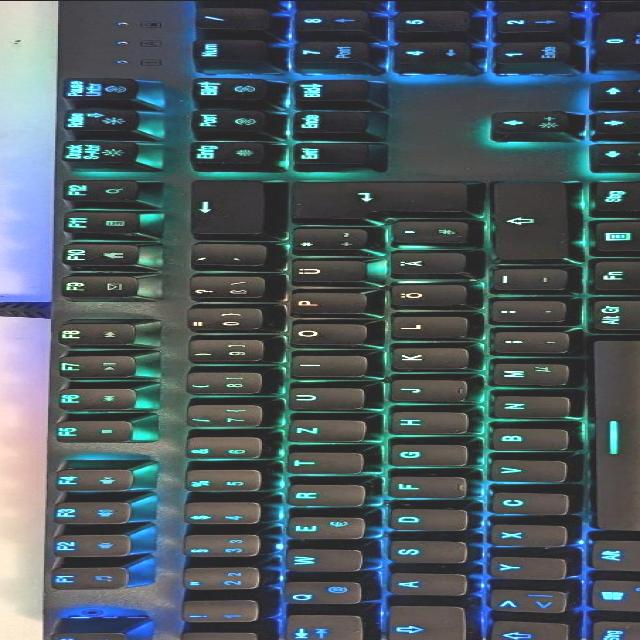0: (179, 307, 264, 333)
1: (176, 599, 260, 623)
2: (177, 567, 261, 591)
3: (177, 534, 262, 558)
4: (179, 502, 261, 526)
5: (178, 469, 262, 493)
6: (180, 436, 262, 460)
7: (180, 404, 264, 427)
8: (179, 371, 264, 396)
9: (180, 338, 268, 363)
a: (383, 573, 465, 597)
accent: (184, 243, 268, 269)
ae: (385, 251, 469, 276)
alt-left: (582, 540, 640, 572)
altgr-right: (582, 298, 640, 333)
b: (482, 427, 568, 452)
c: (483, 491, 568, 515)
caret: (177, 629, 261, 640)
comma: (483, 330, 569, 354)
d: (382, 509, 466, 531)
del: (184, 180, 269, 236)
e: (281, 516, 366, 540)
enter: (284, 182, 475, 223)
f: (382, 477, 466, 499)
g: (383, 443, 468, 467)
h: (383, 411, 469, 435)
hash: (384, 221, 473, 246)
i: (282, 354, 366, 378)
j: (381, 379, 466, 403)
k: (383, 347, 469, 371)
keyboard: (44, 0, 640, 640)
l: (383, 315, 469, 339)
less: (482, 589, 568, 614)
m: (482, 361, 572, 387)
minus: (484, 267, 569, 292)
n: (483, 394, 569, 418)
o: (282, 322, 367, 346)
oe: (383, 284, 469, 308)
p: (282, 292, 367, 316)
plus: (285, 228, 370, 253)
point: (483, 300, 565, 324)
q: (279, 581, 364, 606)
r: (280, 484, 364, 507)
s: (381, 541, 467, 565)
shift-left: (481, 621, 566, 640)
shift-lock: (379, 605, 465, 640)
shift-right: (487, 181, 571, 261)
space: (585, 338, 640, 534)
ss: (182, 275, 268, 301)
strg-left: (583, 621, 639, 640)
strg-right: (586, 181, 640, 215)
t: (281, 451, 363, 474)
tab: (278, 614, 362, 640)
u: (282, 386, 364, 410)
ue: (284, 260, 364, 284)
v: (481, 459, 565, 483)
w: (282, 549, 362, 573)
x: (483, 523, 567, 547)
y: (485, 557, 565, 581)
z: (281, 419, 366, 443)
